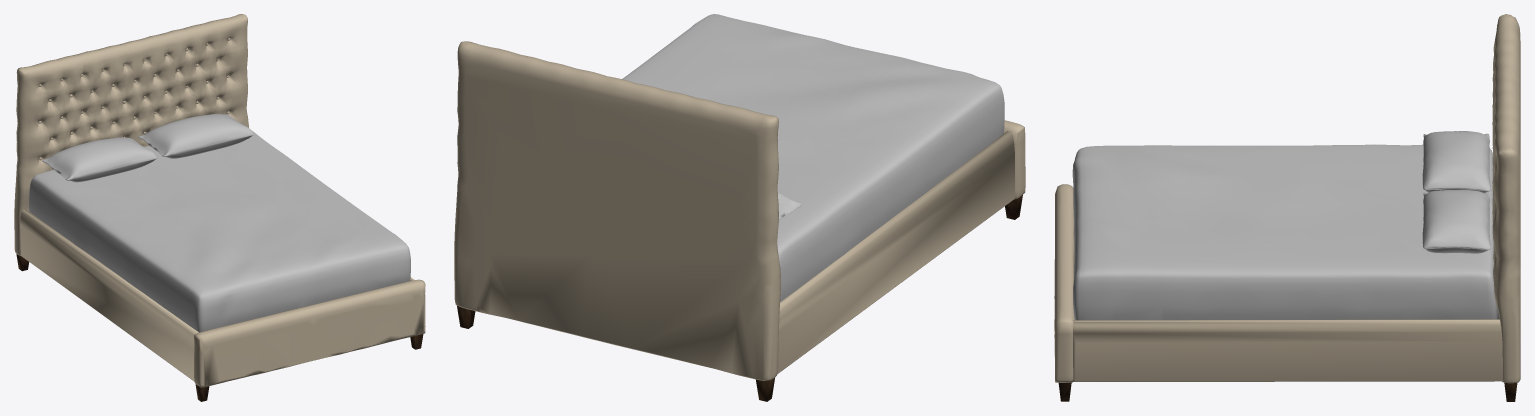
3 renders of one model, left to right at view 1: azimuth 30°, elevation 25°; view 2: azimuth 150°, elevation 25°; view 3: azimuth 270°, elevation 25°, orthographic. The views are drawn at different scales.
Parts seen in each view (by area): view 1: RootNode; view 2: RootNode; view 3: RootNode.
Part boxes in pixels (box(x1,y1,x2,y2)): RootNode: box(14, 14, 425, 401); RootNode: box(454, 14, 1025, 401); RootNode: box(1054, 14, 1520, 401).
Size of the model in its own units: 1.7 by 1.43 by 2.39.
1 material, 1 textured.
